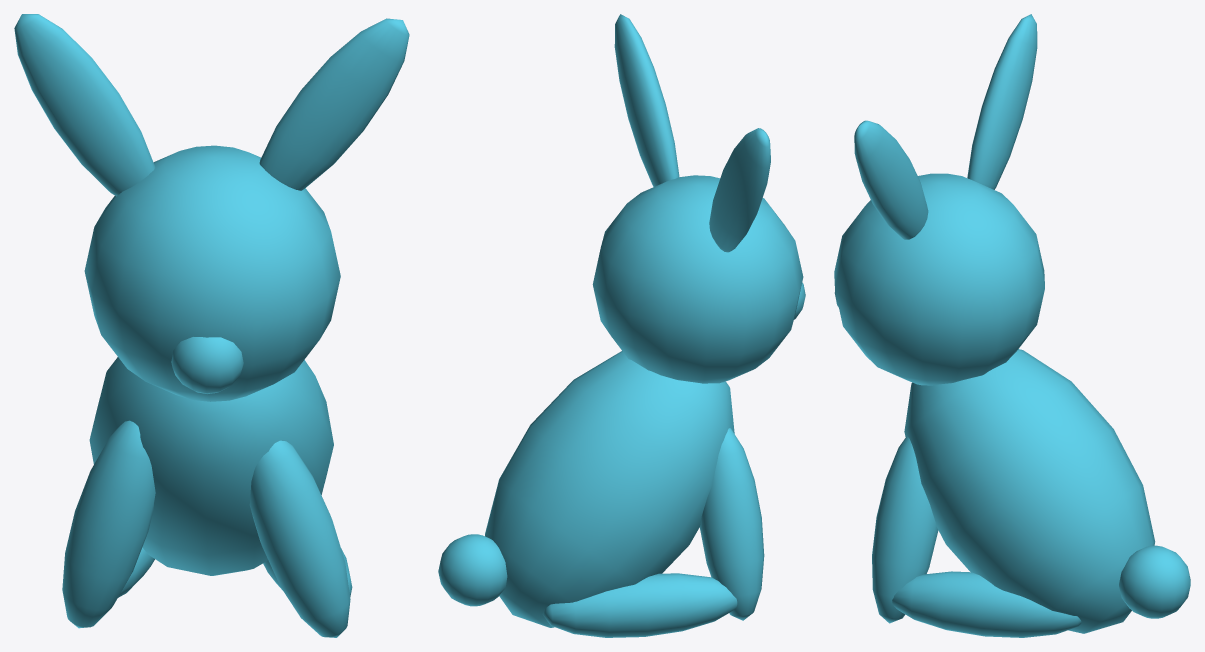
The model's file is Rabbit.fbx.
3 renders of one model, left to right at view 1: azimuth 30°, elevation 25°; view 2: azimuth 150°, elevation 25°; view 3: azimuth 270°, elevation 25°, orthographic. The views are drawn at different scales.
Visible parts, largest first — view 1: Rabbit; view 2: Rabbit; view 3: Rabbit.
Boxes of the visible parts, <box> form: Rabbit: <box>14,14,409,637</box>; Rabbit: <box>438,14,805,637</box>; Rabbit: <box>834,14,1190,637</box>.
Size of the model in its own units: 14.99 by 27.84 by 17.2.
